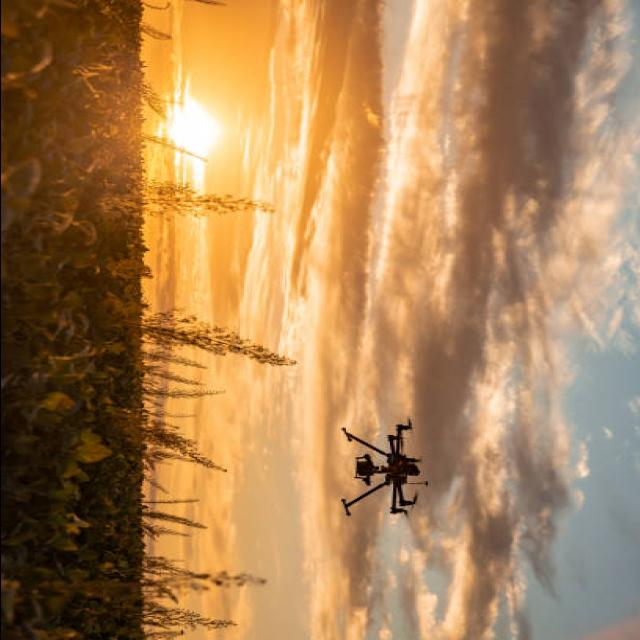drone: (340, 418, 430, 518)
